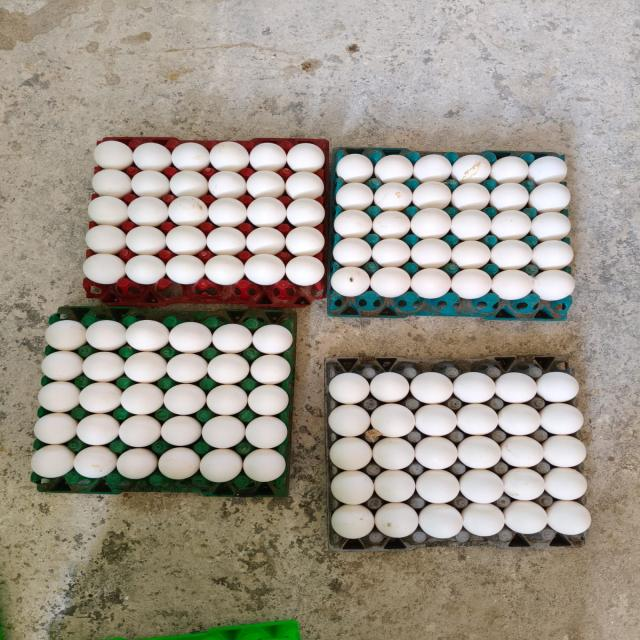egg_tray: (326, 356, 590, 550), (31, 307, 295, 496), (327, 149, 573, 320), (83, 138, 327, 306), (147, 620, 300, 640), (118, 638, 124, 640)
